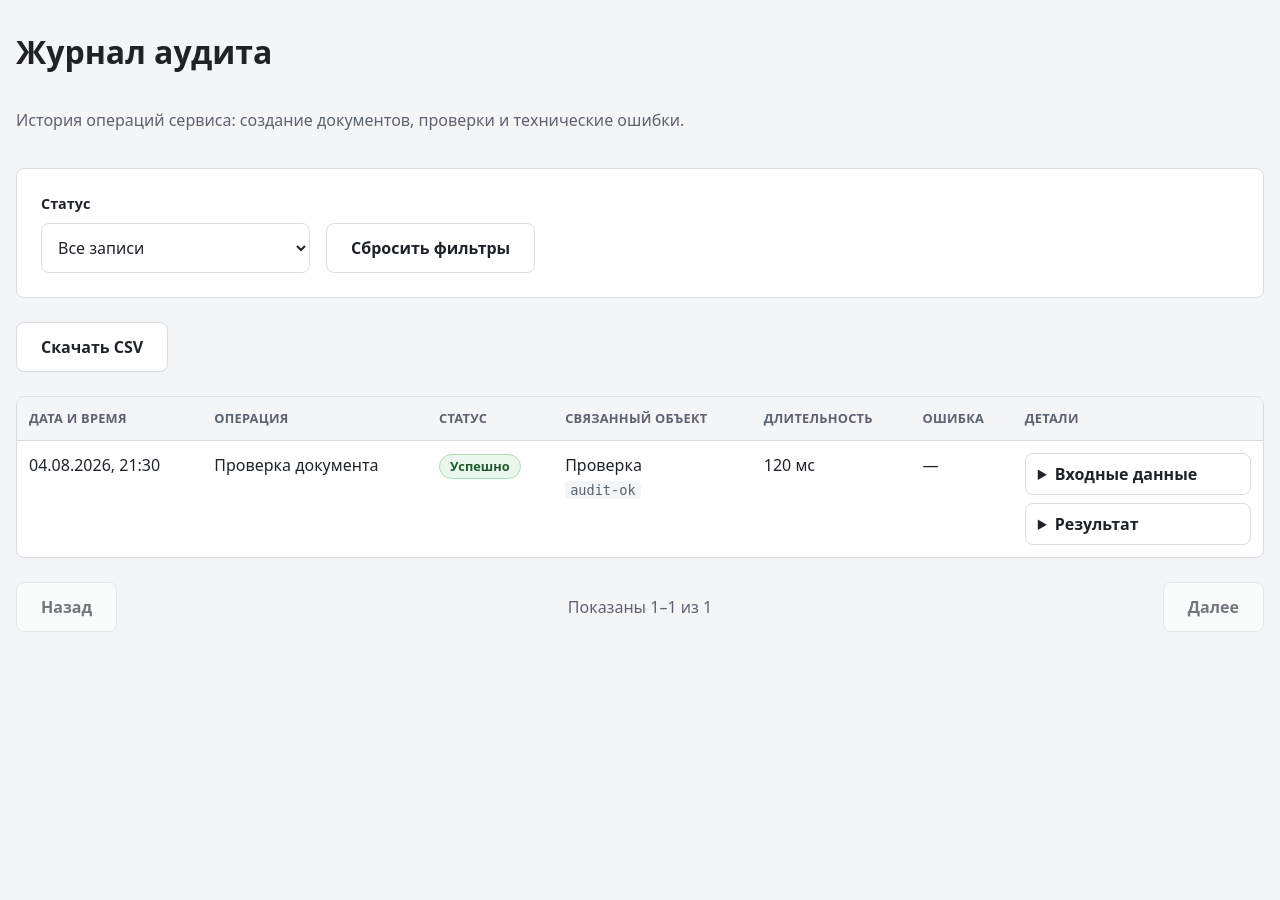
Test case: AuditJournalPage — экспорт CSV › ошибка экспорта показывается отдельно и не стирает уже загруженную таблицу
Expected: the text "audit-ok" is shown, [565, 481, 641, 499]
Click the button "Скачать CSV": point(92, 347) [16, 322, 168, 372]
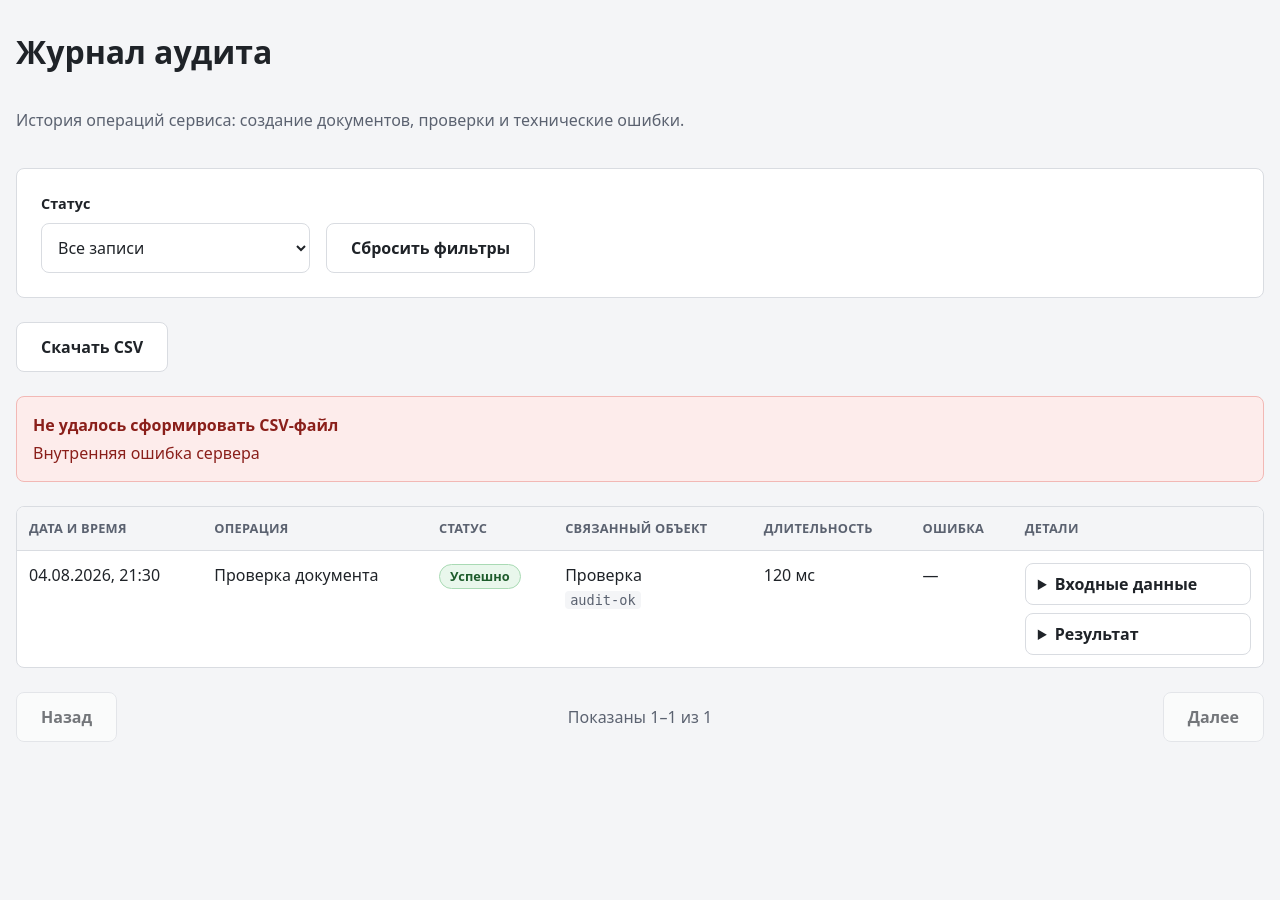
Expected: the table is shown, [17, 507, 1263, 667]
Now the text "Не удалось сформировать CSV-файл" is shown, box [33, 414, 338, 436]
Now the text "Внутренняя ошибка сервера" is shown, box [33, 442, 260, 464]
